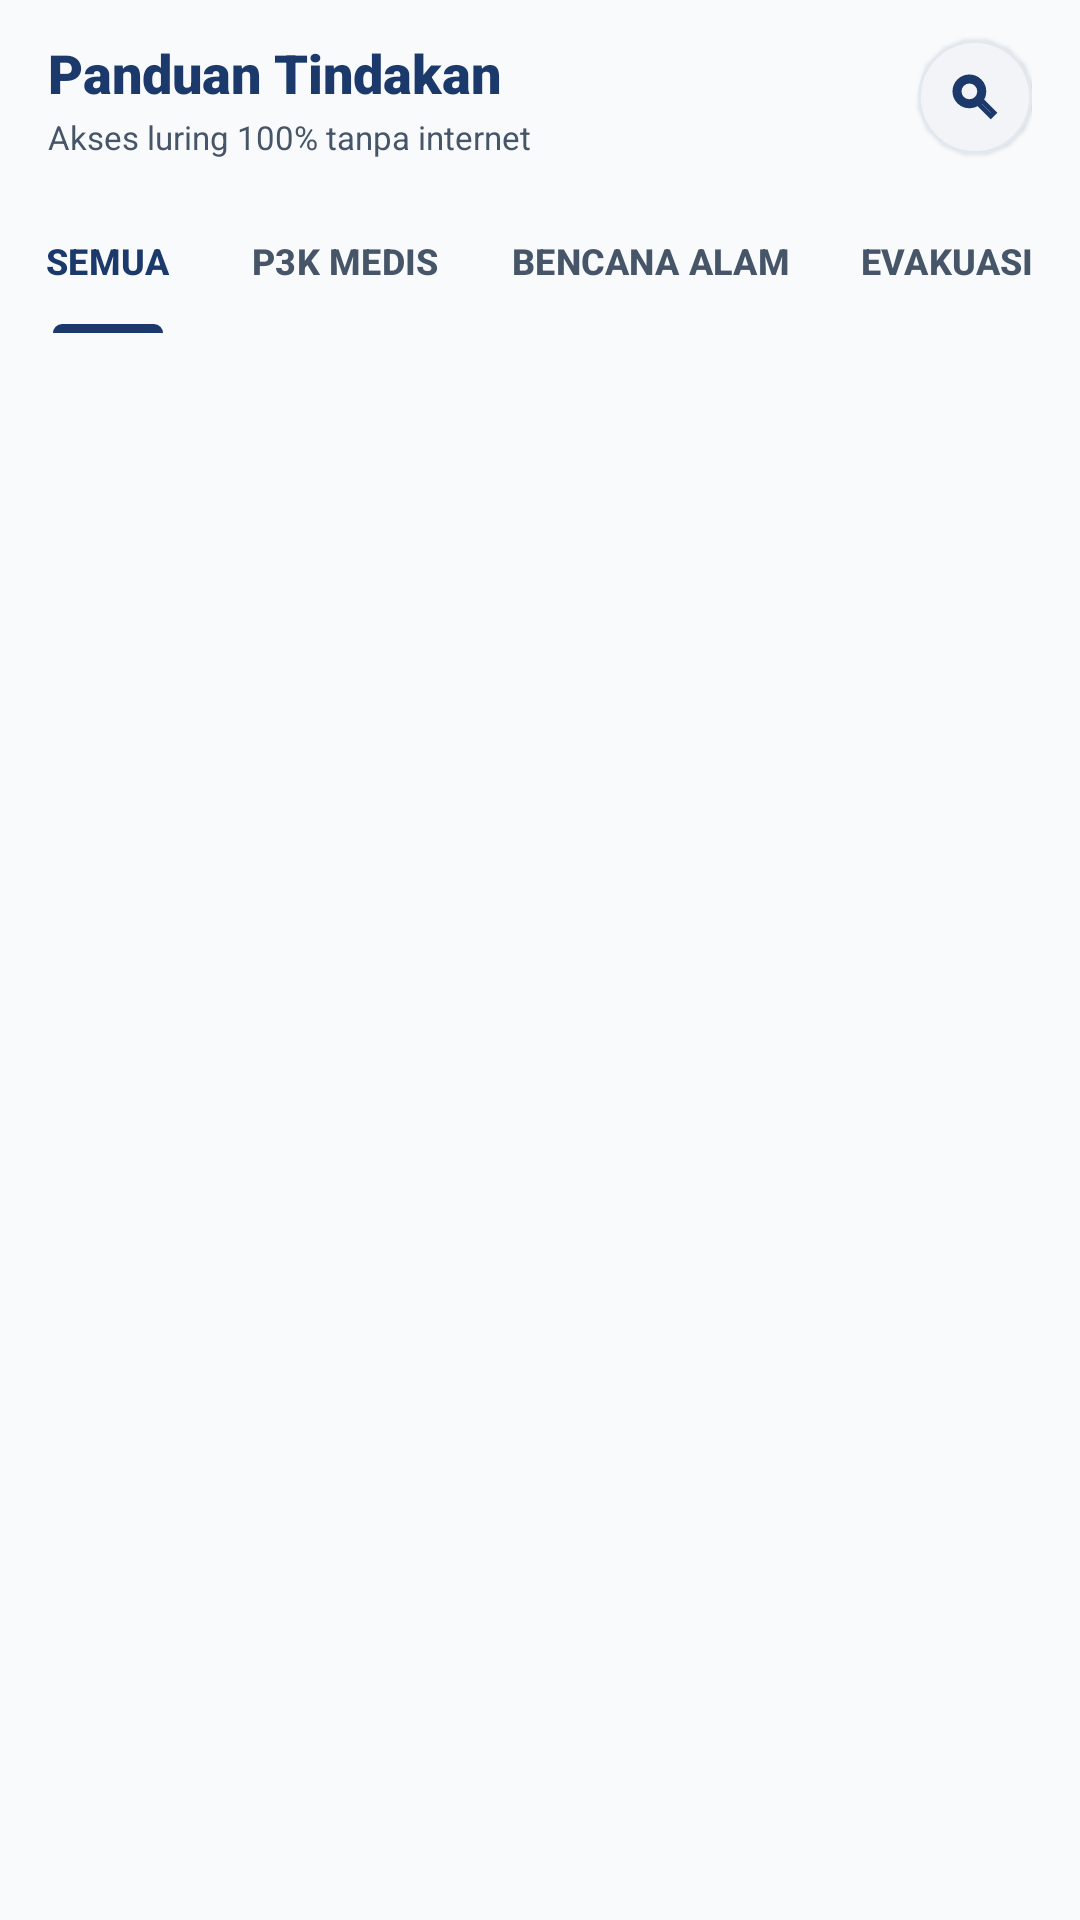

Screen size 1080w x 1920h. Icon name, then its center in pixels as point (x, y):
Cari: point (975, 97)
